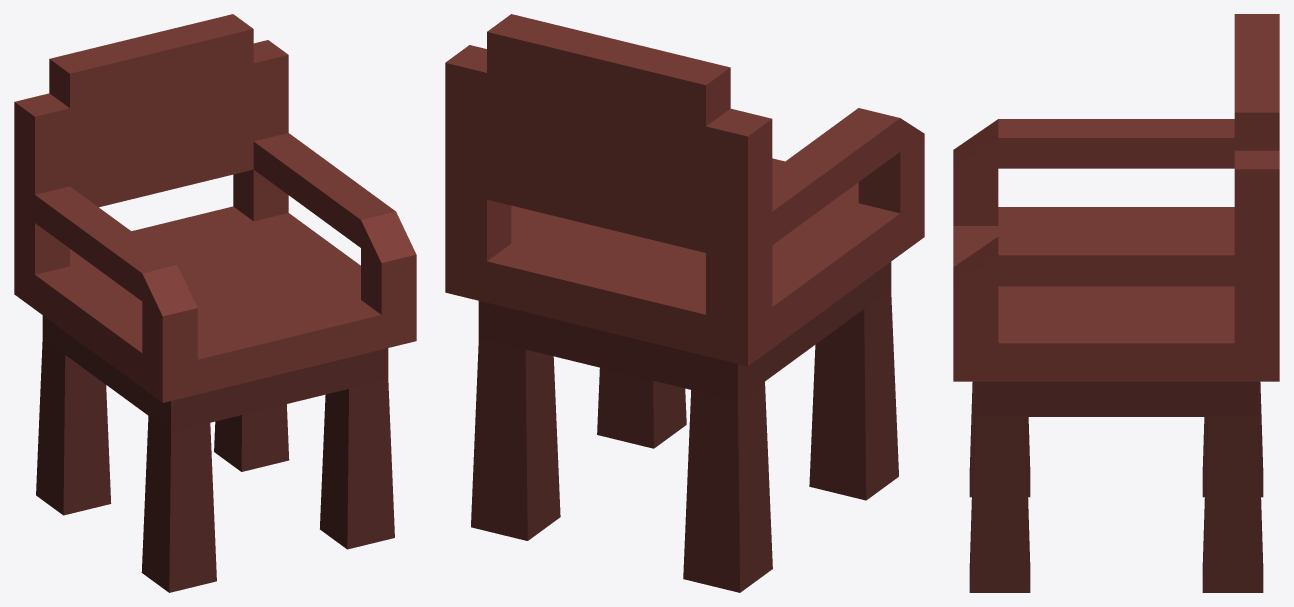
Rendered from quaternius-chair-handle.glb.
3 views of the same model, side by side, from view 1: azimuth 30°, elevation 25°; view 2: azimuth 150°, elevation 25°; view 3: azimuth 270°, elevation 25° (orthographic). The views are drawn at different scales.
Parts seen in each view (by area): view 1: HandleChair; view 2: HandleChair; view 3: HandleChair.
Boxes of the visible parts, x1=… form: HandleChair: x1=14, y1=14, x2=416, y2=592; HandleChair: x1=445, y1=14, x2=924, y2=592; HandleChair: x1=953, y1=14, x2=1279, y2=592.
Bounding box in the file's own units: 0.4326 × 0.6939 × 0.4379.
